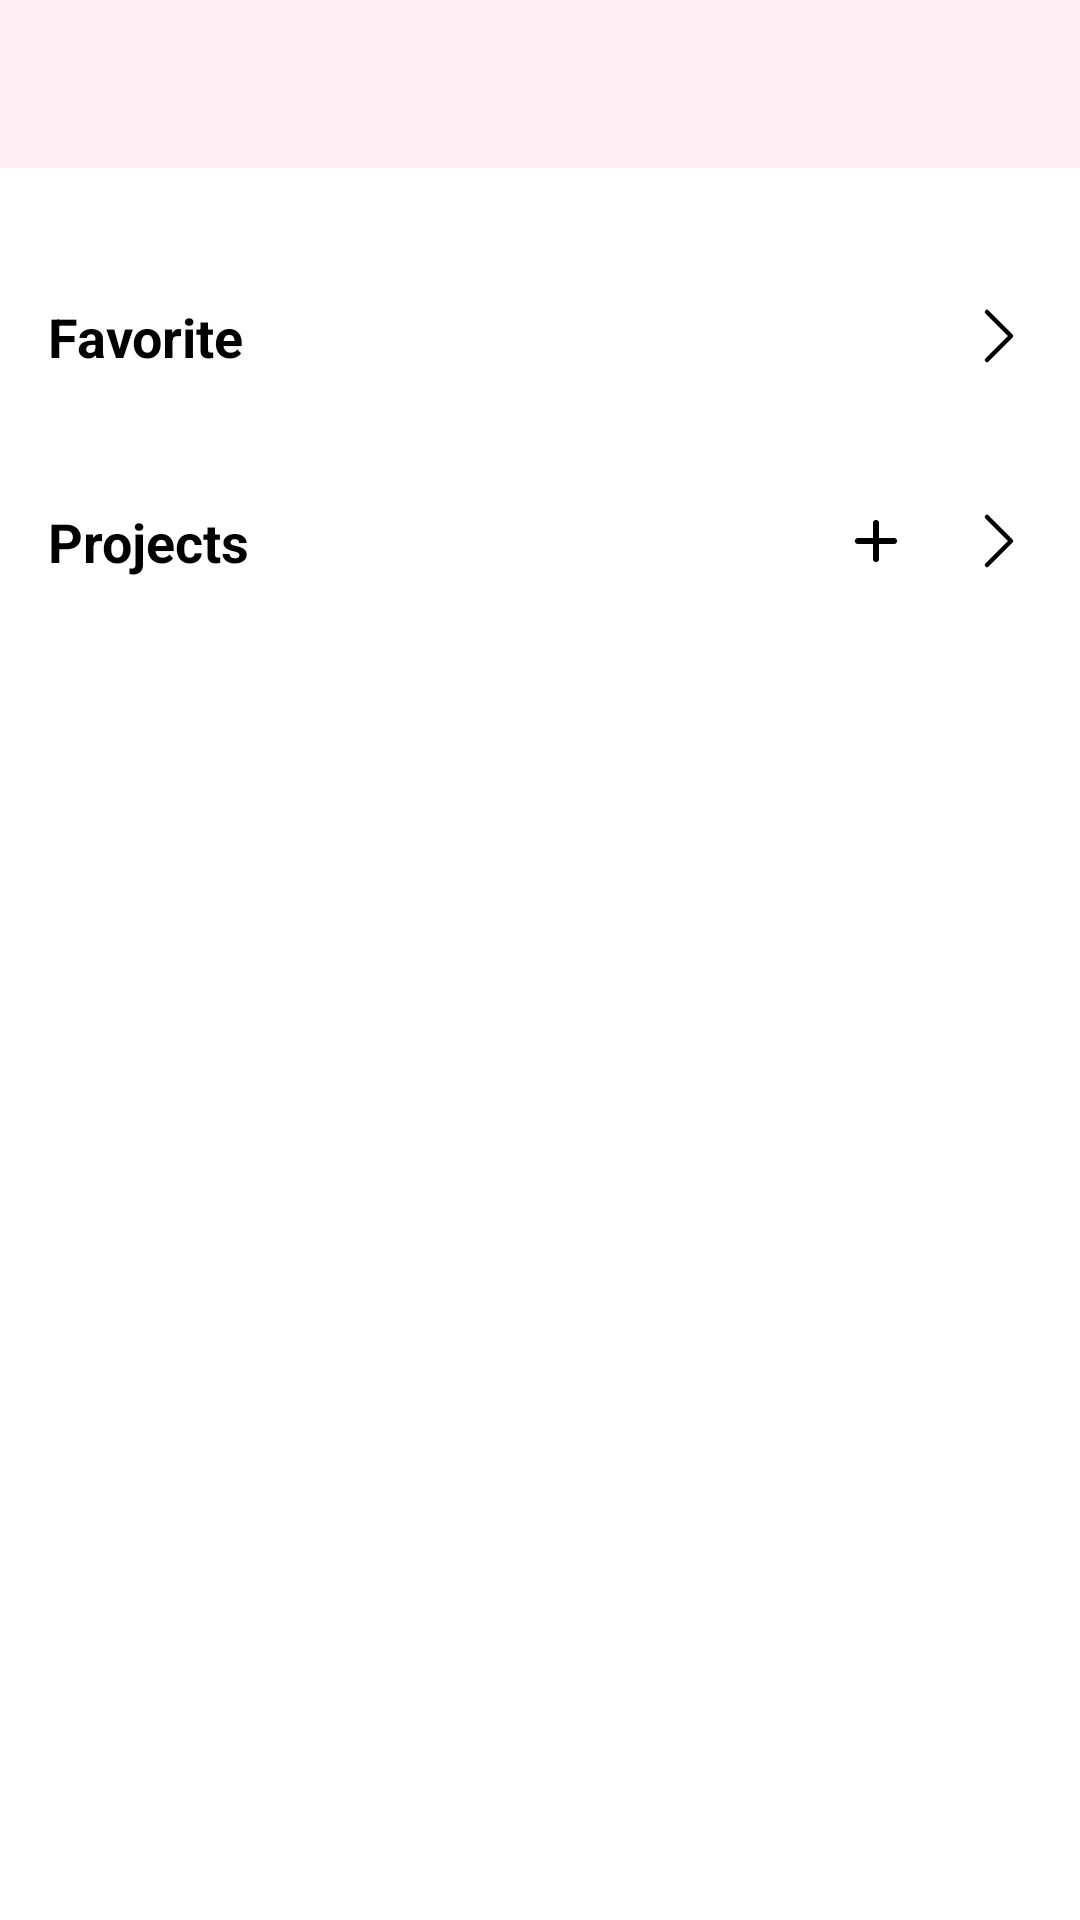

Locate icon controls on the screen. Image size 1080w x 1920h, boxes as (x1, y1, x2, y2).
add: (855, 520, 897, 562)
chevron right: (984, 309, 1014, 363), (984, 514, 1014, 568)
